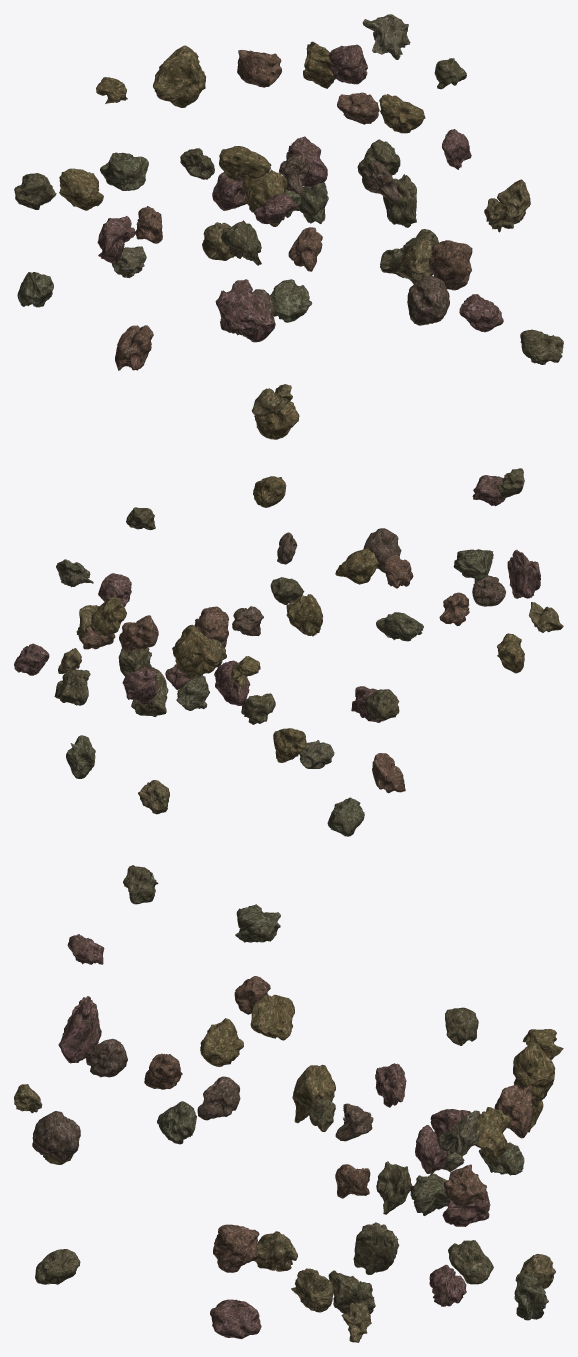
Rendered from asteroides.obj.
The picture shows the model from 3 angles, top to bottom: view 1: azimuth 30°, elevation 25°; view 2: azimuth 150°, elevation 25°; view 3: azimuth 270°, elevation 25°; orthographic projection. The views are drawn at different scales.
Visible parts, largest first — view 1: asteroid_95_space_asteroids_02_l_0007, asteroid_1_space_asteroids_02_l_0001, asteroid_28_space_asteroids_02_l_0006, asteroid_65_space_asteroids_02_l_0008, asteroid_53_space_asteroids_02_l_0004, asteroid_57_space_asteroids_02_l_0001, asteroid_50_space_asteroids_02_l_0003, asteroid_19_space_asteroids_02_l_0008, asteroid_22_space_asteroids_02_l_0008, asteroid_89_space_asteroids_02_l_0001, asteroid_69_space_asteroids_02_l_0004, asteroid_37_space_asteroids_02_l_0001 (+31 smaller); view 2: asteroid_1_space_asteroids_02_l_0001, asteroid_95_space_asteroids_02_l_0007, asteroid_9_space_asteroids_02_l_0001, asteroid_19_space_asteroids_02_l_0008, asteroid_89_space_asteroids_02_l_0001, asteroid_7_space_asteroids_02_l_0007, asteroid_83_space_asteroids_02_l_0004, asteroid_87_space_asteroids_02_l_0005, asteroid_22_space_asteroids_02_l_0008, asteroid_29_space_asteroids_02_l_0001, asteroid_53_space_asteroids_02_l_0004, asteroid_69_space_asteroids_02_l_0004 (+30 smaller); view 3: asteroid_95_space_asteroids_02_l_0007, asteroid_28_space_asteroids_02_l_0006, asteroid_13_space_asteroids_02_l_0005, asteroid_1_space_asteroids_02_l_0001, asteroid_65_space_asteroids_02_l_0008, asteroid_89_space_asteroids_02_l_0001, asteroid_80_space_asteroids_02_l_0007, asteroid_9_space_asteroids_02_l_0001, asteroid_37_space_asteroids_02_l_0001, asteroid_87_space_asteroids_02_l_0005, asteroid_19_space_asteroids_02_l_0008, asteroid_29_space_asteroids_02_l_0001 (+31 smaller).
Part boxes in pixels (x1=…): asteroid_95_space_asteroids_02_l_0007: x1=215, y1=279, x2=275, y2=342; asteroid_1_space_asteroids_02_l_0001: x1=153, y1=45, x2=205, y2=107; asteroid_28_space_asteroids_02_l_0006: x1=407, y1=275, x2=449, y2=325; asteroid_65_space_asteroids_02_l_0008: x1=428, y1=240, x2=472, y2=290; asteroid_53_space_asteroids_02_l_0004: x1=100, y1=152, x2=148, y2=190; asteroid_57_space_asteroids_02_l_0001: x1=59, y1=168, x2=103, y2=210; asteroid_50_space_asteroids_02_l_0003: x1=362, y1=14, x2=410, y2=59; asteroid_19_space_asteroids_02_l_0008: x1=237, y1=50, x2=281, y2=87; asteroid_22_space_asteroids_02_l_0008: x1=115, y1=325, x2=153, y2=370; asteroid_89_space_asteroids_02_l_0001: x1=219, y1=146, x2=271, y2=179; asteroid_69_space_asteroids_02_l_0004: x1=270, y1=279, x2=312, y2=322; asteroid_37_space_asteroids_02_l_0001: x1=379, y1=94, x2=425, y2=133; asteroid_1_space_asteroids_02_l_0001: x1=172, y1=624, x2=217, y2=678; asteroid_95_space_asteroids_02_l_0007: x1=507, y1=549, x2=540, y2=598; asteroid_9_space_asteroids_02_l_0001: x1=286, y1=594, x2=322, y2=636; asteroid_19_space_asteroids_02_l_0008: x1=119, y1=615, x2=158, y2=651; asteroid_89_space_asteroids_02_l_0001: x1=335, y1=548, x2=378, y2=584; asteroid_7_space_asteroids_02_l_0007: x1=122, y1=666, x2=157, y2=704; asteroid_83_space_asteroids_02_l_0004: x1=327, y1=797, x2=364, y2=836; asteroid_87_space_asteroids_02_l_0005: x1=54, y1=669, x2=90, y2=705; asteroid_22_space_asteroids_02_l_0008: x1=372, y1=753, x2=405, y2=793; asteroid_29_space_asteroids_02_l_0001: x1=91, y1=596, x2=126, y2=636; asteroid_53_space_asteroids_02_l_0004: x1=453, y1=549, x2=493, y2=580; asteroid_69_space_asteroids_02_l_0004: x1=376, y1=612, x2=423, y2=641; asteroid_95_space_asteroids_02_l_0007: x1=58, y1=996, x2=101, y2=1063; asteroid_28_space_asteroids_02_l_0006: x1=32, y1=1111, x2=80, y2=1161; asteroid_13_space_asteroids_02_l_0005: x1=353, y1=1222, x2=399, y2=1274; asteroid_1_space_asteroids_02_l_0001: x1=513, y1=1042, x2=555, y2=1107; asteroid_65_space_asteroids_02_l_0008: x1=213, y1=1224, x2=259, y2=1272; asteroid_89_space_asteroids_02_l_0001: x1=250, y1=994, x2=294, y2=1040; asteroid_80_space_asteroids_02_l_0007: x1=210, y1=1299, x2=261, y2=1339; asteroid_9_space_asteroids_02_l_0001: x1=292, y1=1064, x2=335, y2=1123; asteroid_37_space_asteroids_02_l_0001: x1=200, y1=1018, x2=243, y2=1066; asteroid_87_space_asteroids_02_l_0005: x1=448, y1=1240, x2=493, y2=1284; asteroid_19_space_asteroids_02_l_0008: x1=494, y1=1084, x2=533, y2=1138; asteroid_29_space_asteroids_02_l_0001: x1=475, y1=1107, x2=510, y2=1161.
Size of the model in its own units: 29.26 by 18.78 by 29.91.
